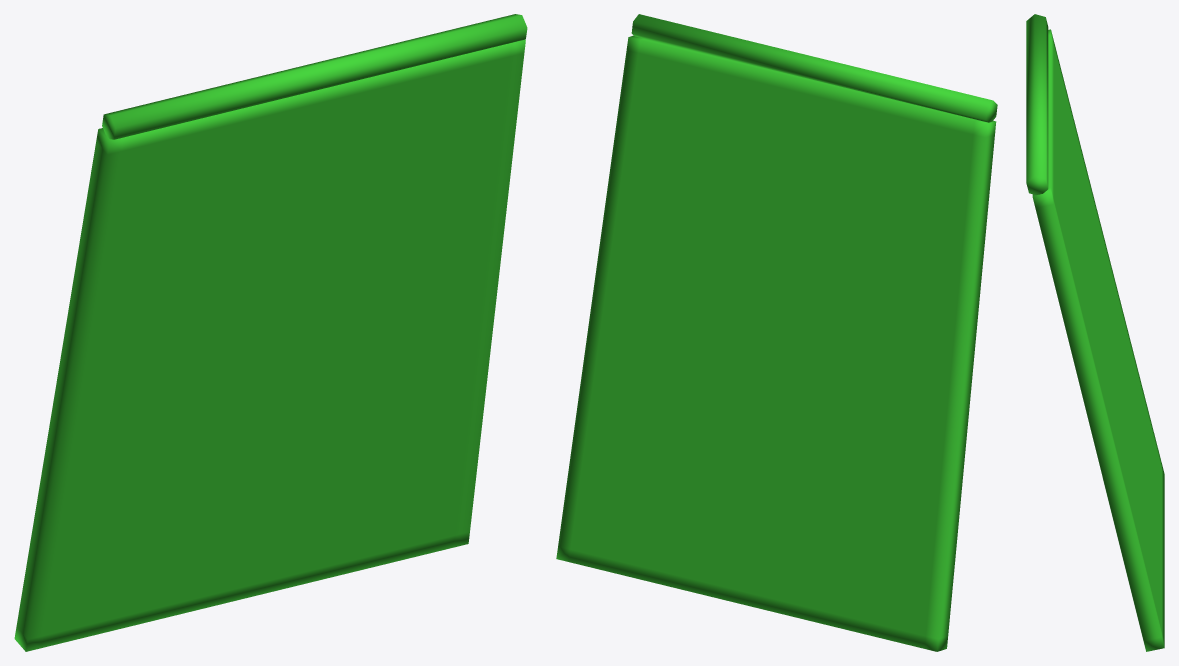
File: VMP_MOD_Bulk_machine_01_latch_01.fbx
3 views of the same model, side by side, from view 1: azimuth 30°, elevation 25°; view 2: azimuth 150°, elevation 25°; view 3: azimuth 270°, elevation 25° (orthographic). The views are drawn at different scales.
Visible parts, largest first — view 1: VMP_MOD_Bulk_machine_01_latch_01; view 2: VMP_MOD_Bulk_machine_01_latch_01; view 3: VMP_MOD_Bulk_machine_01_latch_01.
Part boxes in pixels (bbox=[...]): VMP_MOD_Bulk_machine_01_latch_01: bbox=[14, 14, 527, 651]; VMP_MOD_Bulk_machine_01_latch_01: bbox=[556, 14, 997, 651]; VMP_MOD_Bulk_machine_01_latch_01: bbox=[1026, 14, 1164, 651].
Bounding box in the file's own units: 0.1354 × 0.1704 × 0.0454.
